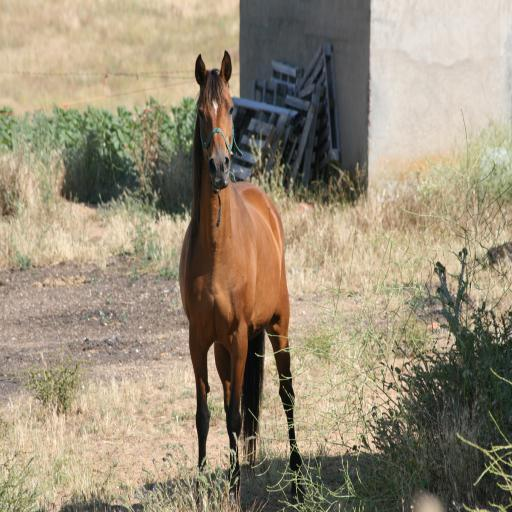Horse: (178, 51, 306, 508)
